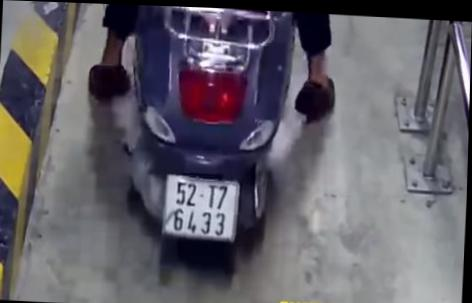LP: (162, 169, 243, 242)
